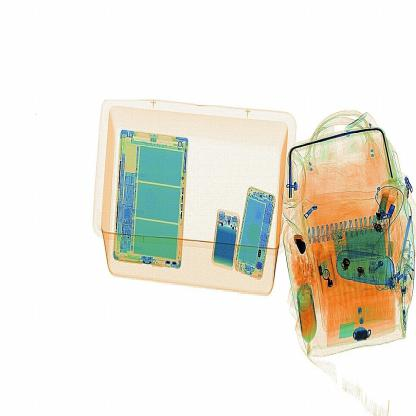wrench: (291, 229, 307, 259)
